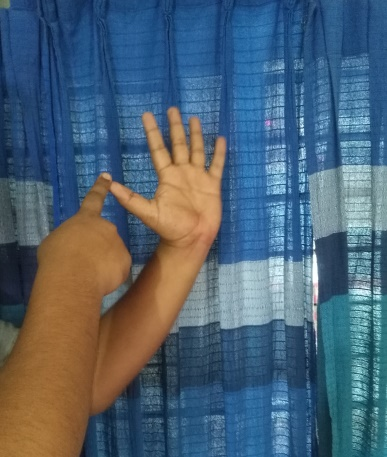a: (54, 106, 226, 285)
